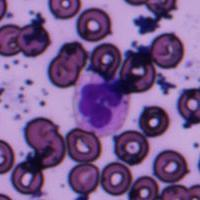N: (73, 77, 130, 137)
